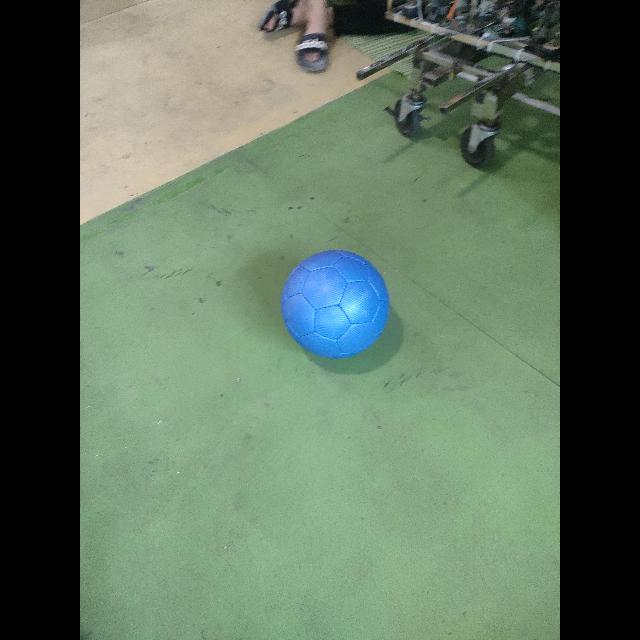B: (279, 251, 392, 362)
